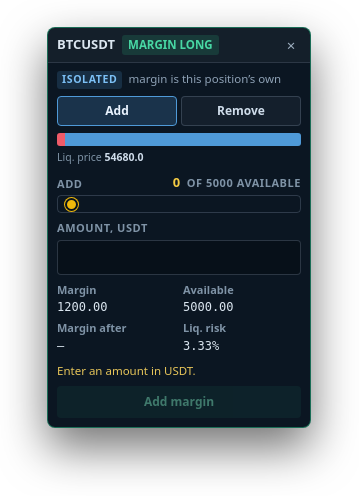
Test: FuturesPositionMarginEditor › shows where the requested amount would leave the position
This screenshot has width=359, height=496.
Step 1. Type "250" into the field named "Margin amount in USDT" → (179, 257), box [57,240,301,274]
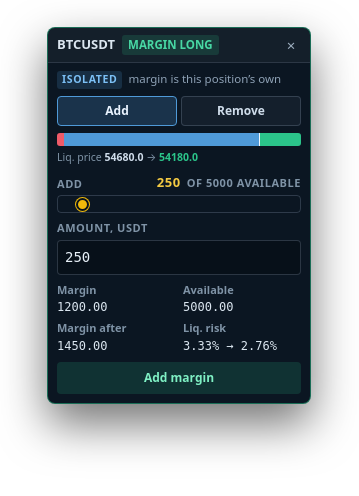
Expected: the form named "Adjust BTCUSDT LONG position margin" shows "Margin after", [57,320,126,335]
Now the form named "Adjust BTCUSDT LONG position margin" shows "1450.00", box [57,338,108,352]
Now the form named "Adjust BTCUSDT LONG position margin" shows "Liq. price 54680.0 → 54180.0", box [47,27,311,404]
